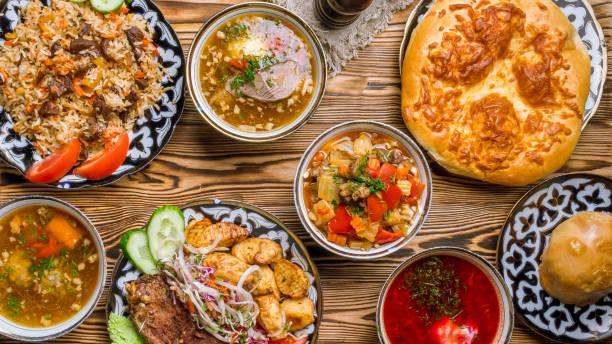Braised Crucian Carp: (399, 2, 604, 182), (5, 0, 184, 185), (105, 199, 313, 343), (185, 1, 323, 143), (293, 119, 428, 259), (2, 193, 107, 340)
